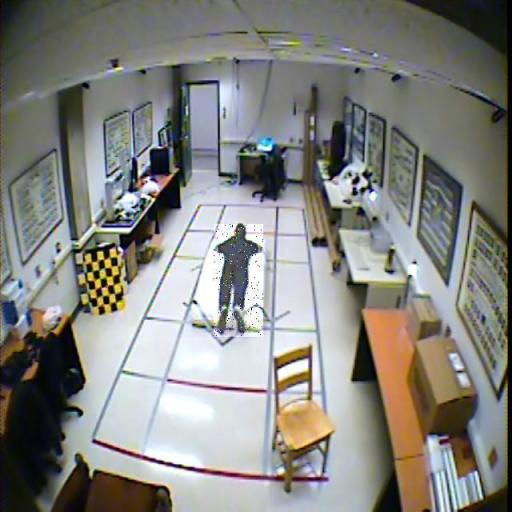Fall: (214, 224, 263, 337)
